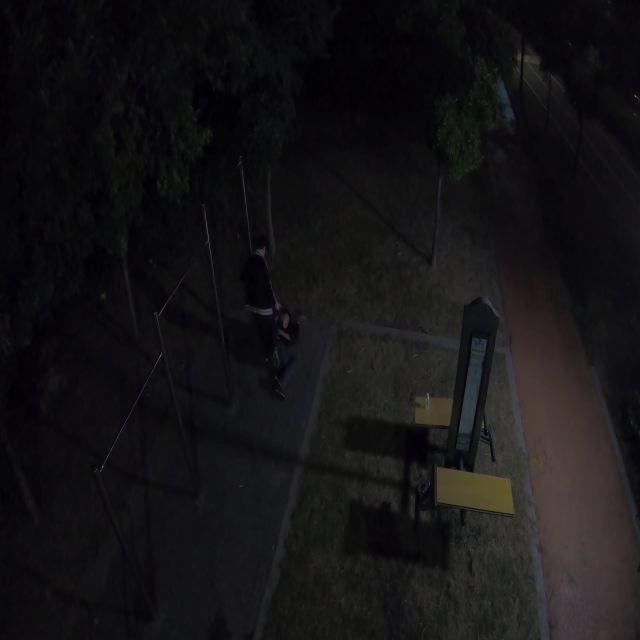fight: (237, 236, 300, 397)
